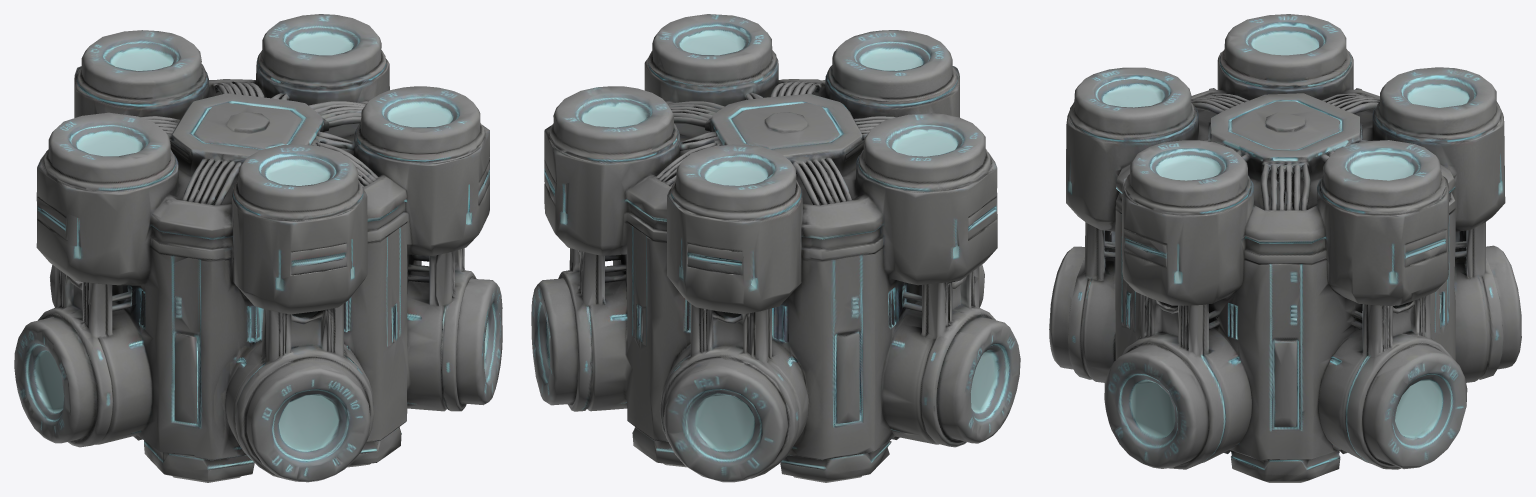
File: Casa4.glb
The picture shows the model from 3 angles, left to right: view 1: azimuth 30°, elevation 25°; view 2: azimuth 150°, elevation 25°; view 3: azimuth 270°, elevation 25°; orthographic projection.
Parts seen in each view (by area): view 1: tripo_node_021161f0-1da9-4e02-bcf7-52d940042fd2; view 2: tripo_node_021161f0-1da9-4e02-bcf7-52d940042fd2; view 3: tripo_node_021161f0-1da9-4e02-bcf7-52d940042fd2.
Part boxes in pixels (x1,y1,x2,y2): tripo_node_021161f0-1da9-4e02-bcf7-52d940042fd2: [14, 14, 502, 482]; tripo_node_021161f0-1da9-4e02-bcf7-52d940042fd2: [531, 14, 1020, 482]; tripo_node_021161f0-1da9-4e02-bcf7-52d940042fd2: [1049, 14, 1521, 482].
Size of the model in its own units: 0.9665 by 0.7092 by 0.9799.
Materials: 1 (1 with a texture image).
